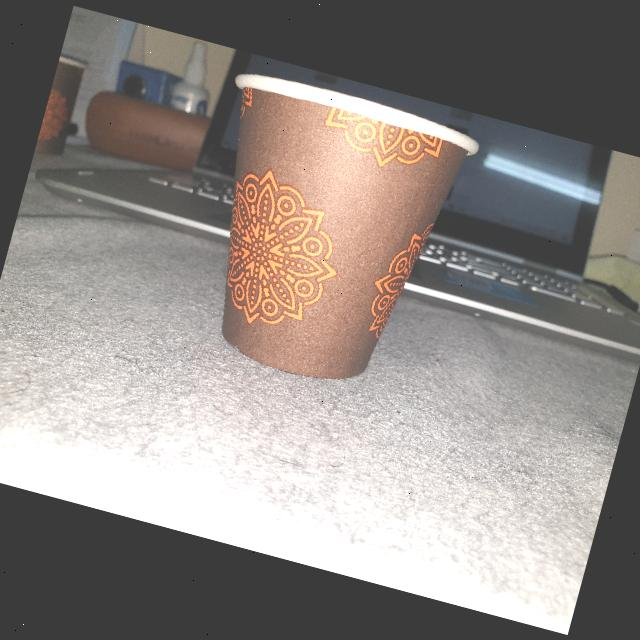trash: (146, 47, 496, 422)
